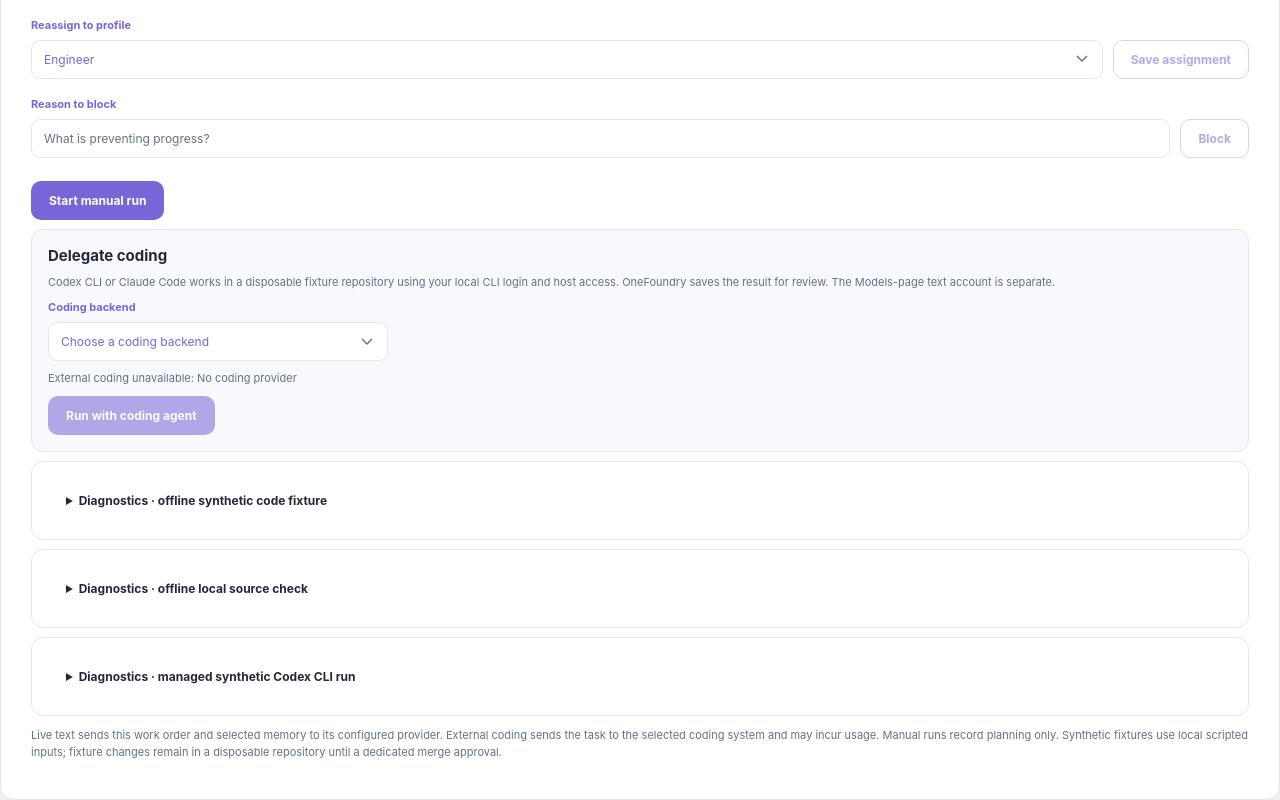
it: does not offer a second launch when POST outcome and saved readback are unknown
(page scrolled)
Click the heading "Diagnostics · offline local source check". click: (193, 588)
box: x1=79 y1=581 x2=308 y2=596
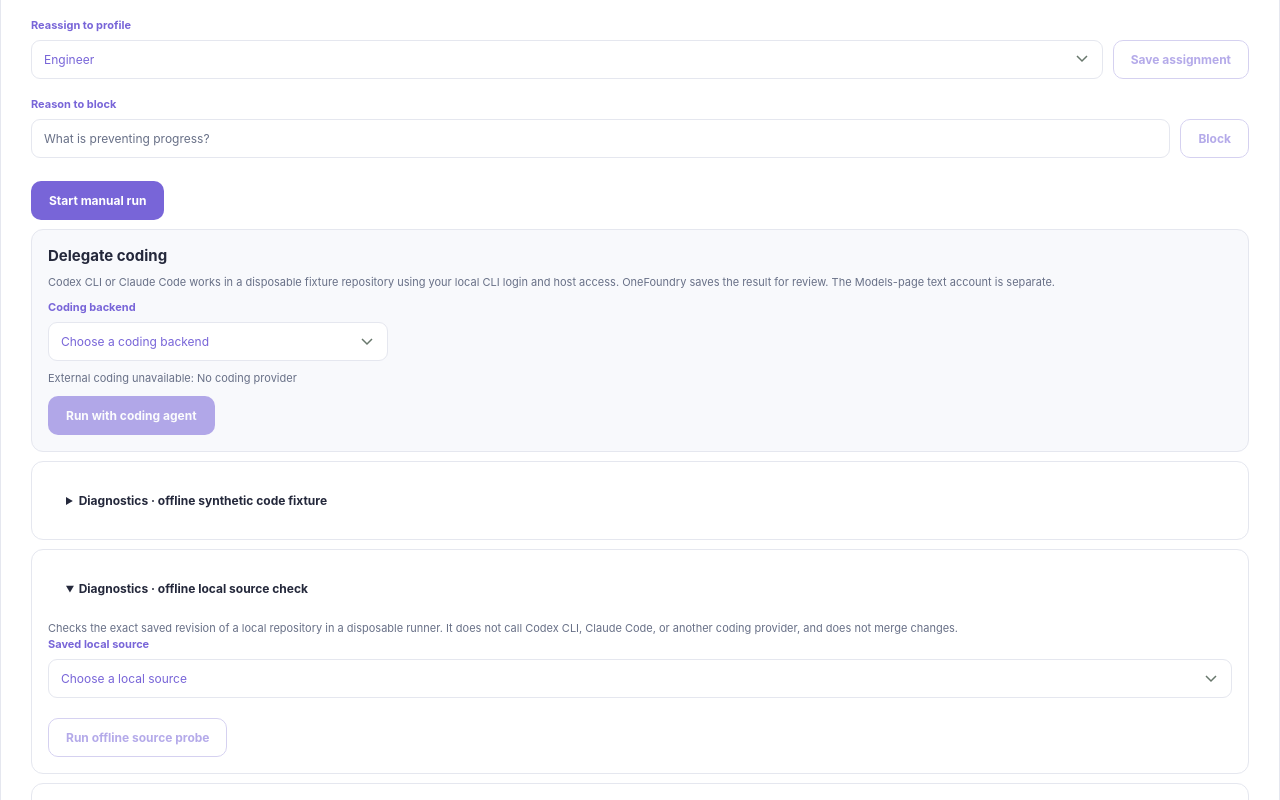
Select "parser · main" in the dropdown labelled "Saved local source". click: (640, 679)
box: x1=48 y1=659 x2=1232 y2=698
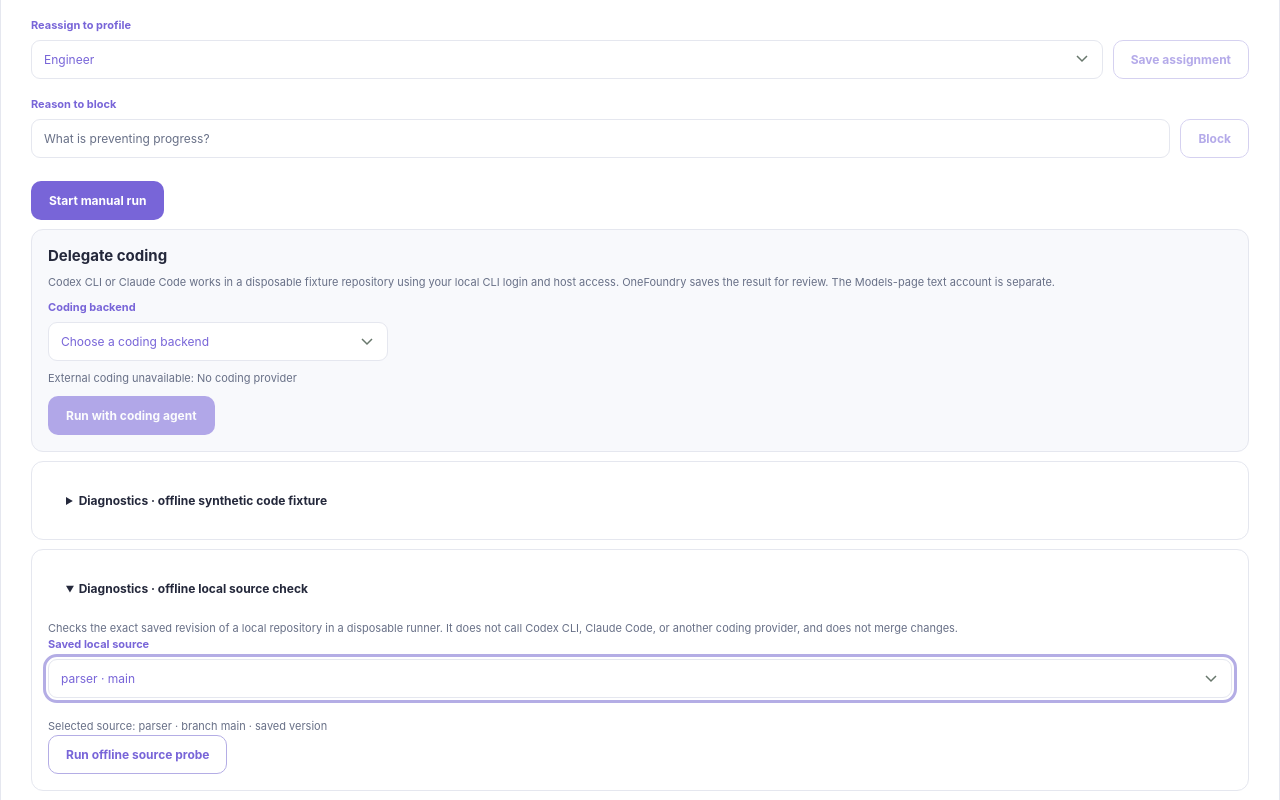
Click the button "Run offline source probe". click: (138, 755)
box: x1=48 y1=735 x2=228 y2=774
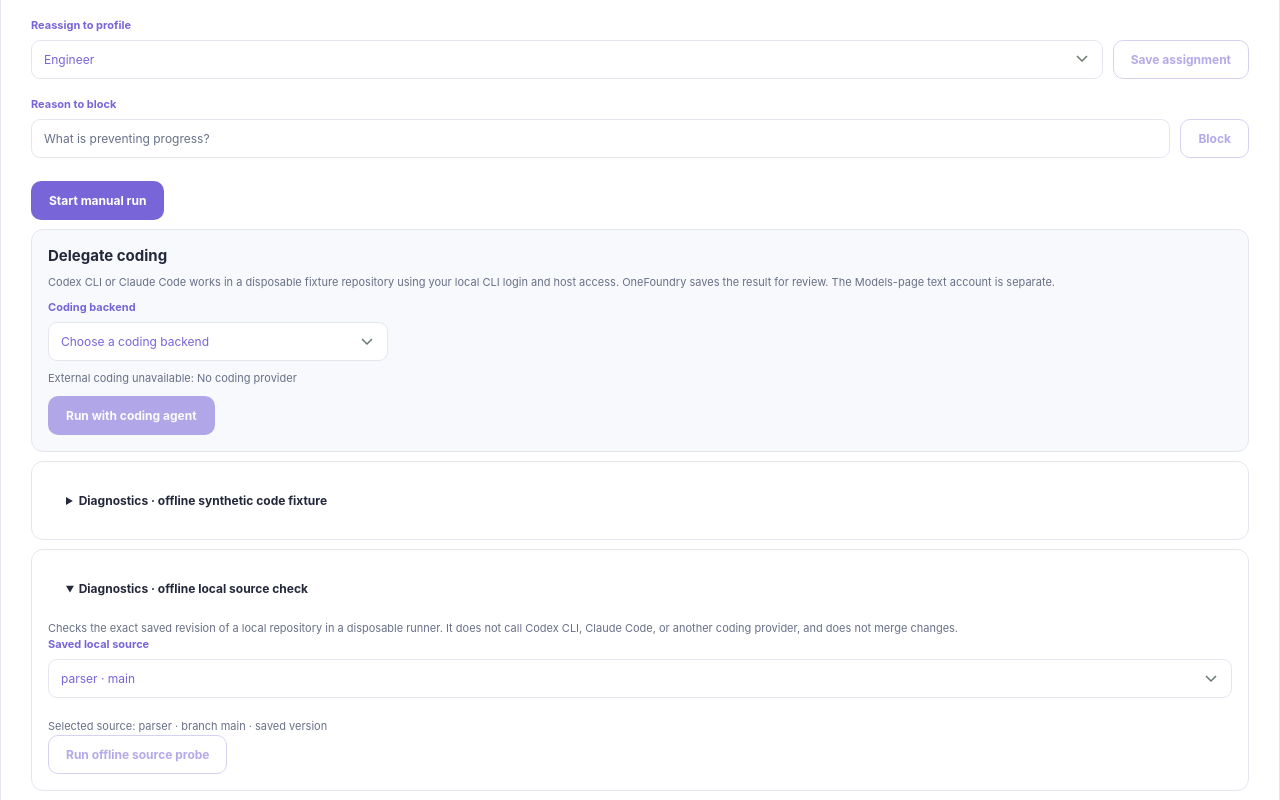
Result: the button "Run offline source probe" is disabled at x1=48 y1=735 x2=228 y2=774
